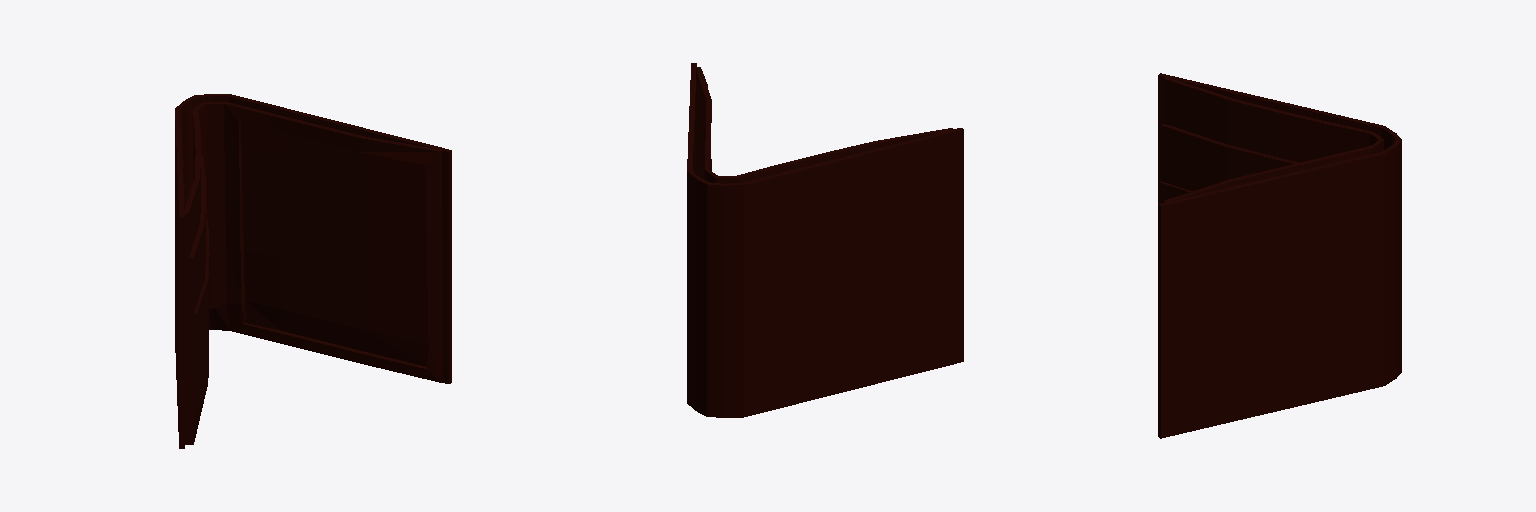
Rendered from wallet.obj.
3 views of the same model, side by side, from view 1: azimuth 30°, elevation 25°; view 2: azimuth 150°, elevation 25°; view 3: azimuth 270°, elevation 25° (orthographic).
Bounding box in the file's own units: 1.23 × 1 × 0.9511.